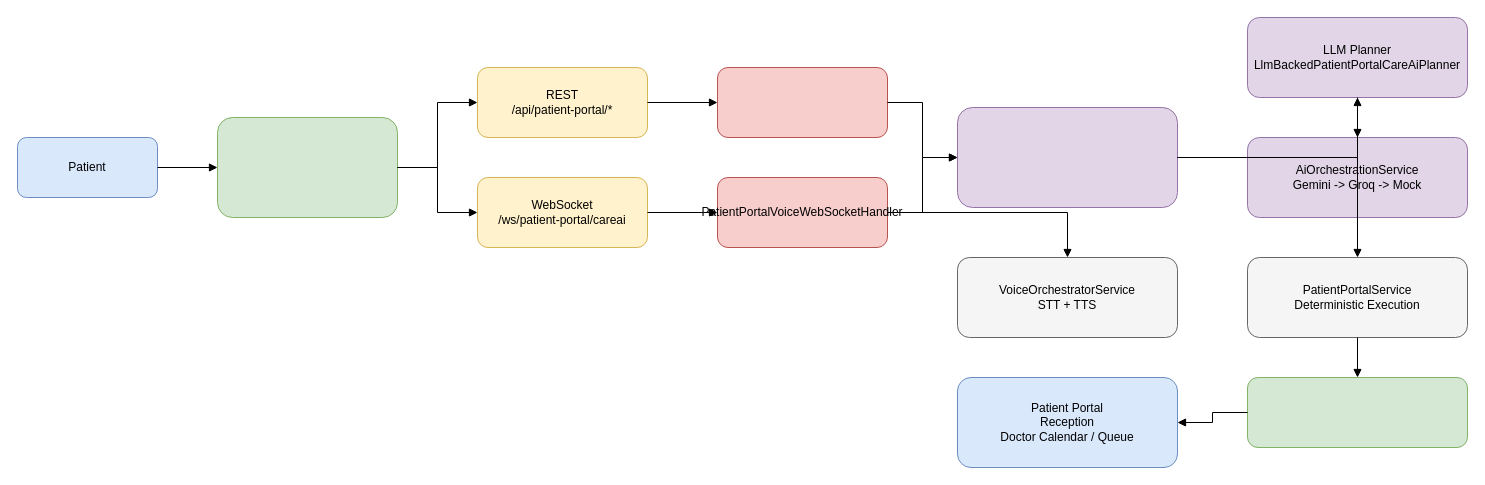
The diagram is 1485 pixels wide and 485 high, and some of its shapes have lost their labels. Each missing label, with the box of its shape:
Appointment / Doctor / Slot Domain: (1246, 376, 1468, 448)
PatientPortalCareAiService Shared Chat + Voice Business Engine: (956, 106, 1178, 208)
PatientPortalController: (716, 66, 888, 138)
web-care Patient Portal Chat + Voice UI: (216, 116, 398, 218)
